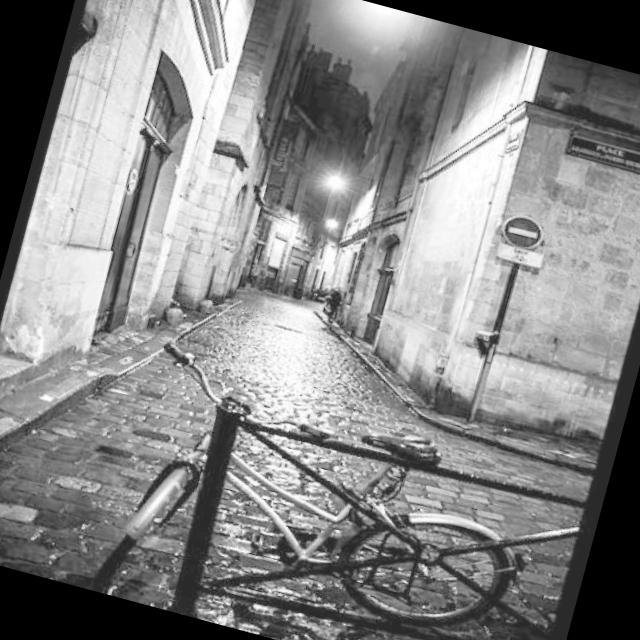Bicycle: (87, 301, 556, 640)
